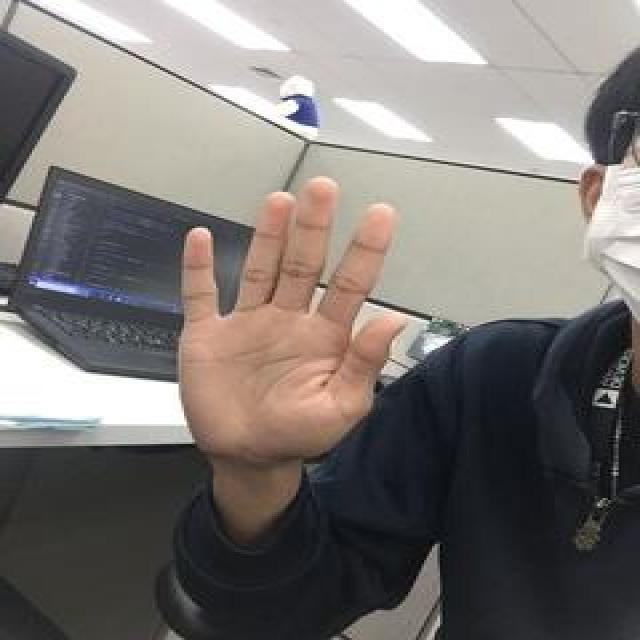no-gloves: (170, 176, 414, 466)
